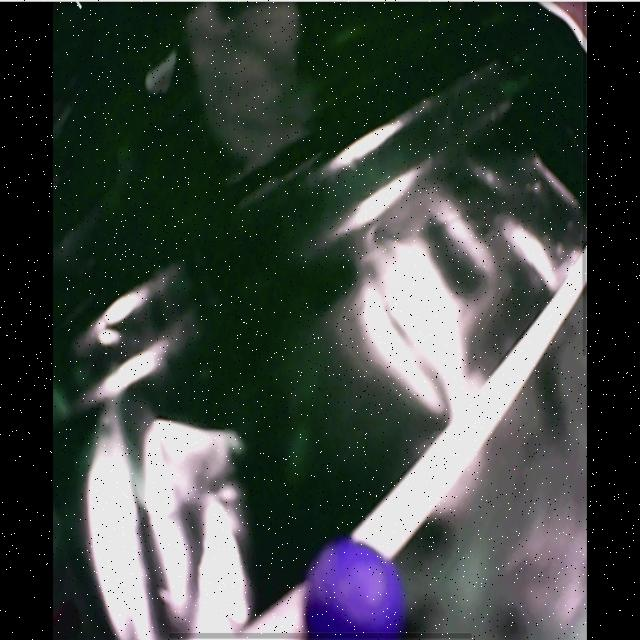ball: (305, 542, 405, 637)
